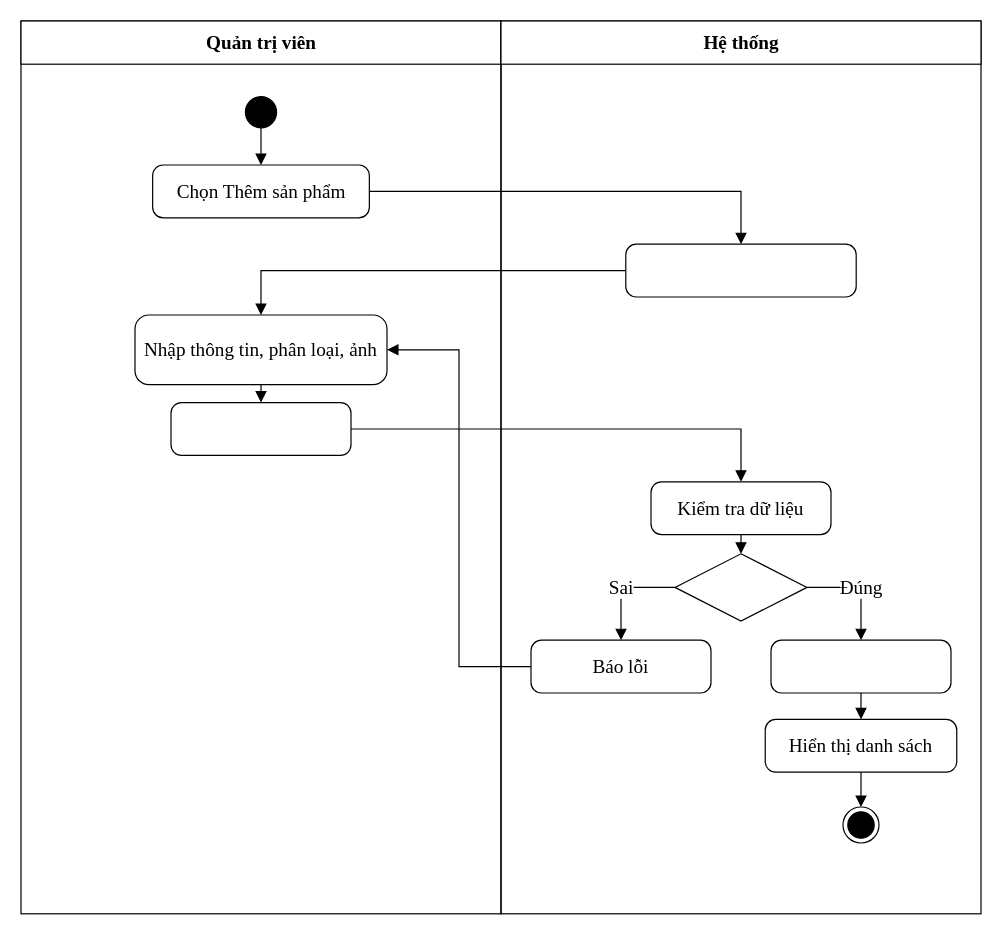
The diagram is 1002 pixels wide and 935 high, and some of its shapes have lost their labels. The centre of each missing label's shape, as x and y in pixels:
Bấm Lưu: pixel 260 428
Hiển thị form sản phẩm: pixel 740 270
Hợp lệ?: pixel 740 587
Lưu sản phẩm: pixel 860 666
